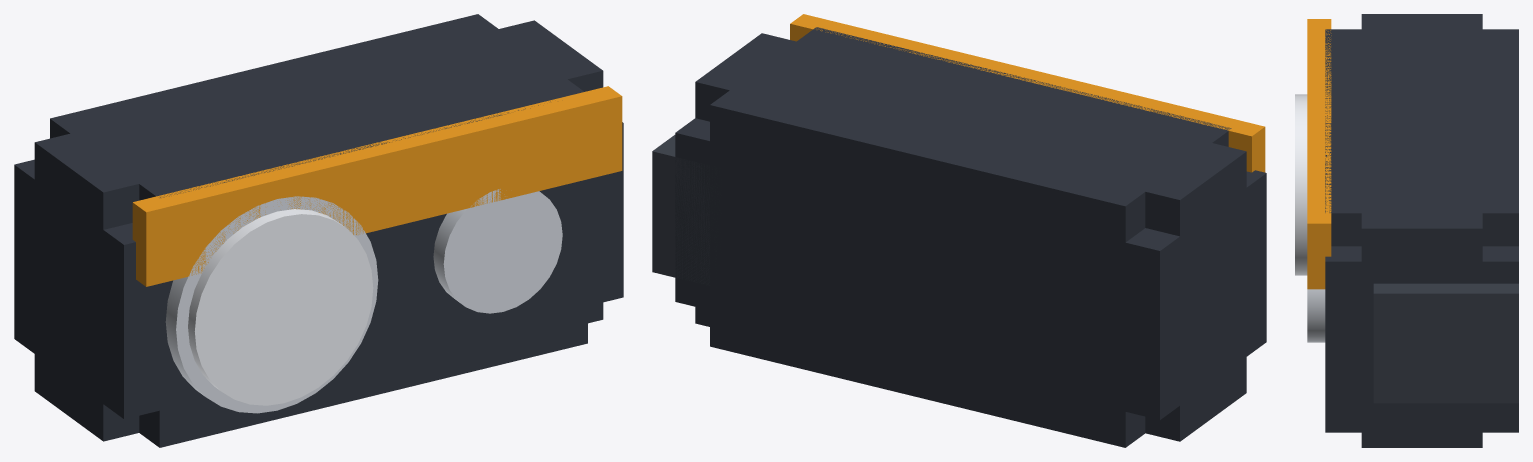
3 views of the same model, side by side, from view 1: azimuth 30°, elevation 25°; view 2: azimuth 150°, elevation 25°; view 3: azimuth 270°, elevation 25° (orthographic). The views are drawn at different scales.
Visible parts, largest first — view 1: Faro LED delantero; view 2: Faro LED delantero; view 3: Faro LED delantero.
Boxes of the visible parts, x1=… form: Faro LED delantero: x1=14, y1=14, x2=623, y2=447; Faro LED delantero: x1=652, y1=14, x2=1266, y2=447; Faro LED delantero: x1=1295, y1=14, x2=1518, y2=447.
Size of the model in its own units: 1 by 0.4545 by 0.4205.
